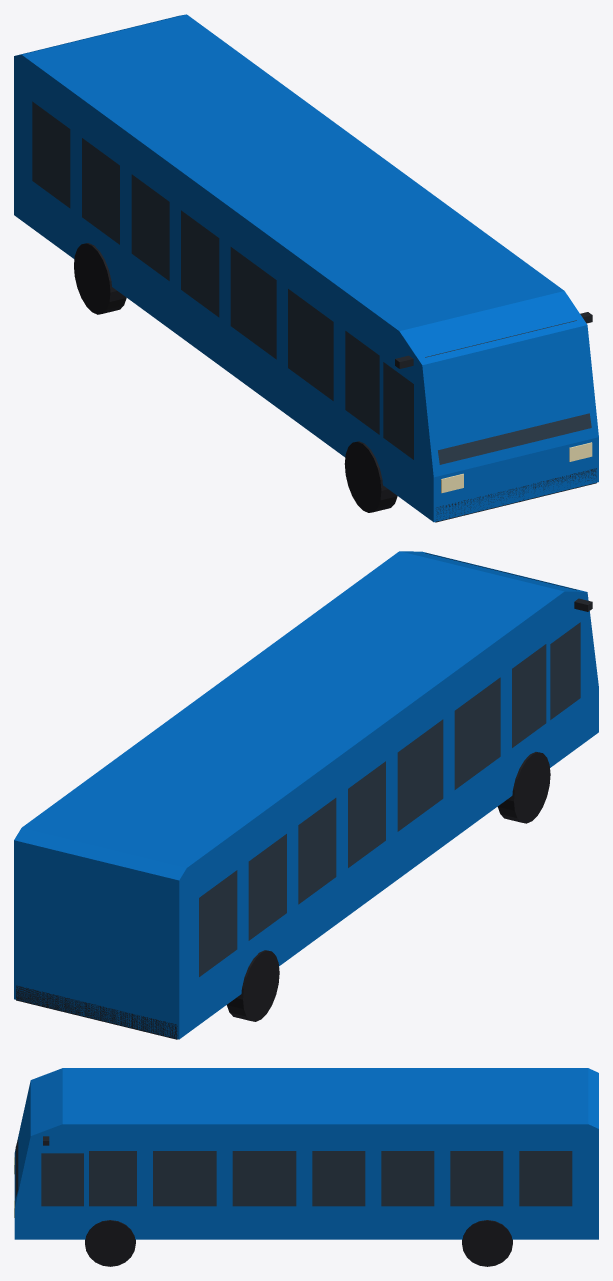
File: bus_single.glb
3 views of the same model, one above another, from view 1: azimuth 30°, elevation 25°; view 2: azimuth 150°, elevation 25°; view 3: azimuth 270°, elevation 25° (orthographic). The views are drawn at different scales.
Parts seen in each view (by area): view 1: body, glass_side.009, glass_side.011, glass_side.007, glass_side.001, glass_side.005, glass_side.003, glass_side.013, glass_screen, glass_side.015, wheel_1_L_tyre, wheel_0_L_tyre (+1 smaller); view 2: body, glass_side.009, glass_side.011, glass_side.003, glass_side.005, glass_side.001, glass_side.007, glass_side.013, bumper_tail, glass_side.015, wheel_0_L_tyre, wheel_1_L_tyre; view 3: body, glass_side.008, glass_side.010, glass_side, glass_side.002, glass_side.004, glass_side.006, glass_side.012, glass_side.014, wheel_0_R_tyre, wheel_1_R_tyre.
Part boxes in pixels (x1=…): body: x1=14, y1=14, x2=598, y2=522; glass_side.009: x1=230, y1=247, x2=276, y2=359; glass_side.011: x1=288, y1=289, x2=333, y2=400; glass_side.007: x1=181, y1=210, x2=219, y2=317; glass_side.001: x1=32, y1=101, x2=70, y2=208; glass_side.005: x1=131, y1=174, x2=169, y2=280; glass_side.003: x1=82, y1=138, x2=119, y2=244; glass_side.013: x1=345, y1=331, x2=379, y2=434; glass_screen: x1=425, y1=320, x2=591, y2=464; glass_side.015: x1=383, y1=362, x2=413, y2=459; wheel_1_L_tyre: x1=344, y1=441, x2=397, y2=512; wheel_0_L_tyre: x1=74, y1=243, x2=126, y2=314; body: x1=14, y1=551, x2=598, y2=1039; glass_side.009: x1=397, y1=719, x2=443, y2=831; glass_side.011: x1=454, y1=677, x2=500, y2=789; glass_side.003: x1=248, y1=834, x2=286, y2=940; glass_side.005: x1=298, y1=798, x2=336, y2=904; glass_side.001: x1=199, y1=870, x2=237, y2=976; glass_side.007: x1=348, y1=761, x2=385, y2=867; glass_side.013: x1=512, y1=644, x2=546, y2=747; bumper_tail: x1=16, y1=985, x2=177, y2=1039; glass_side.015: x1=550, y1=622, x2=580, y2=719; wheel_0_L_tyre: x1=227, y1=950, x2=279, y2=1021; wheel_1_L_tyre: x1=497, y1=752, x2=550, y2=823; body: x1=14, y1=1068, x2=598, y2=1239; glass_side.008: x1=232, y1=1151, x2=296, y2=1206; glass_side.010: x1=153, y1=1151, x2=216, y2=1206; glass_side: x1=519, y1=1151, x2=572, y2=1206; glass_side.002: x1=450, y1=1151, x2=503, y2=1206; glass_side.004: x1=381, y1=1151, x2=434, y2=1206; glass_side.006: x1=312, y1=1151, x2=365, y2=1206; glass_side.012: x1=89, y1=1151, x2=136, y2=1206; glass_side.014: x1=41, y1=1153, x2=83, y2=1206; wheel_0_R_tyre: x1=462, y1=1220, x2=512, y2=1266; wheel_1_R_tyre: x1=85, y1=1220, x2=135, y2=1266.
Size of the model in its own units: 2.92 by 2.95 by 11.01.
